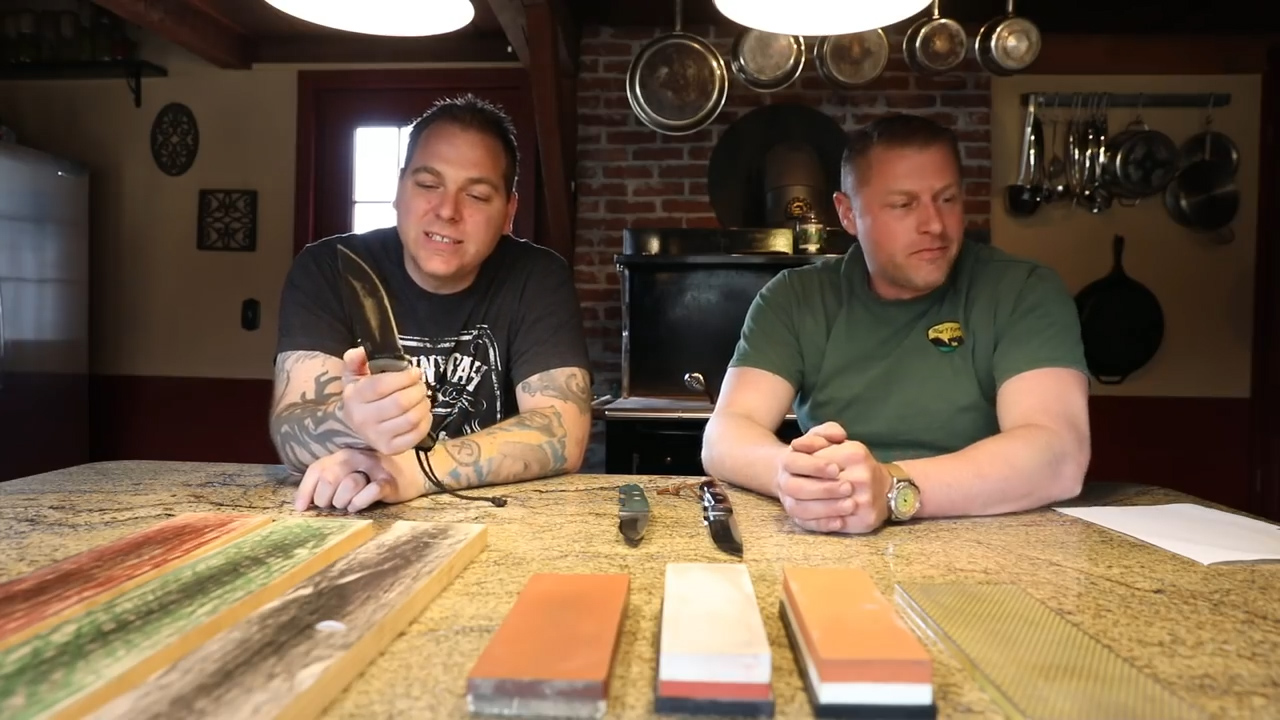knife: (326, 227, 443, 427)
